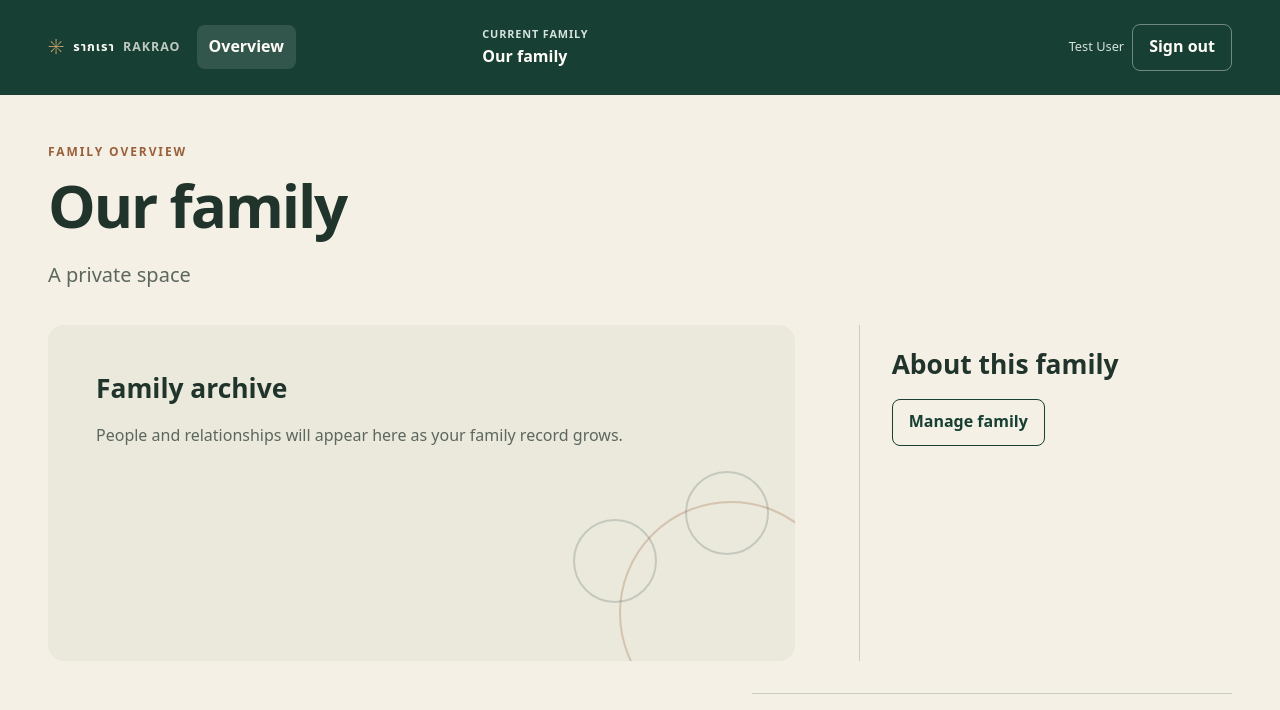
authentication shell › updates family details only through the selected family control
Click the button "Manage family". click: click(968, 422)
box: 892,399 -> 1045,446
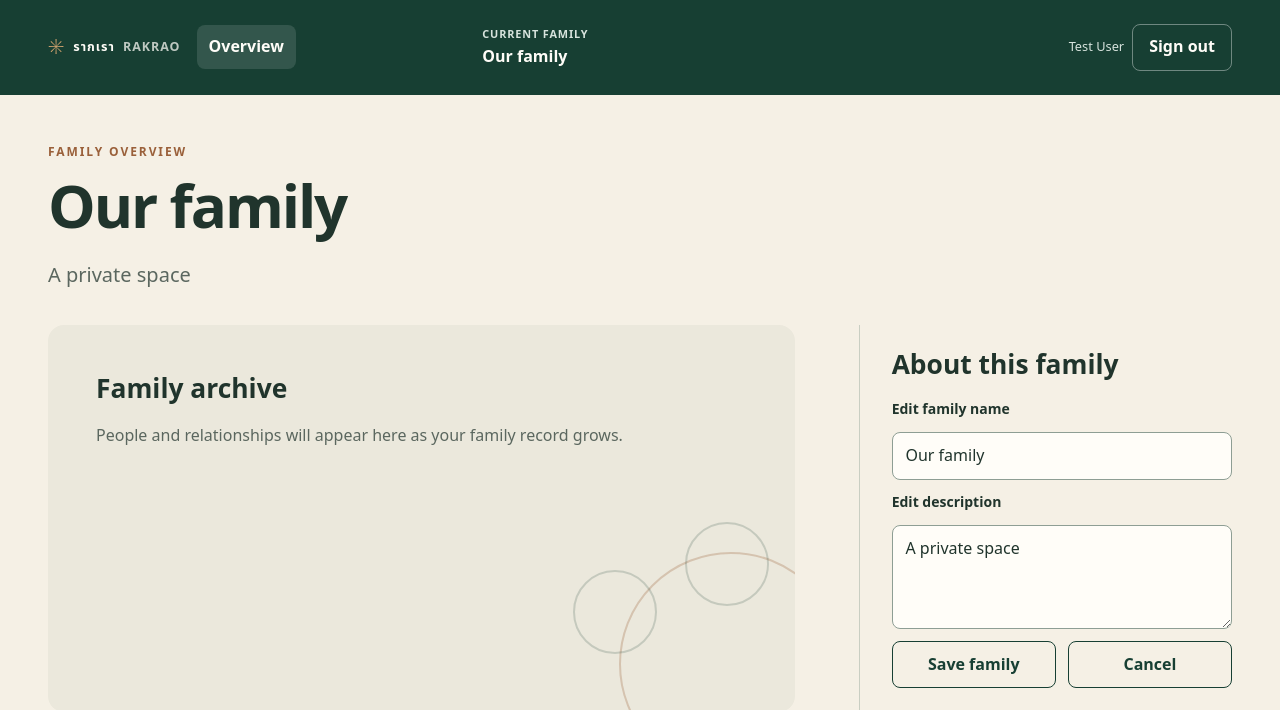
Replace the text in the field labelled "Edit family name" with "New family name". click: (1062, 456)
box: 892,432 -> 1232,480
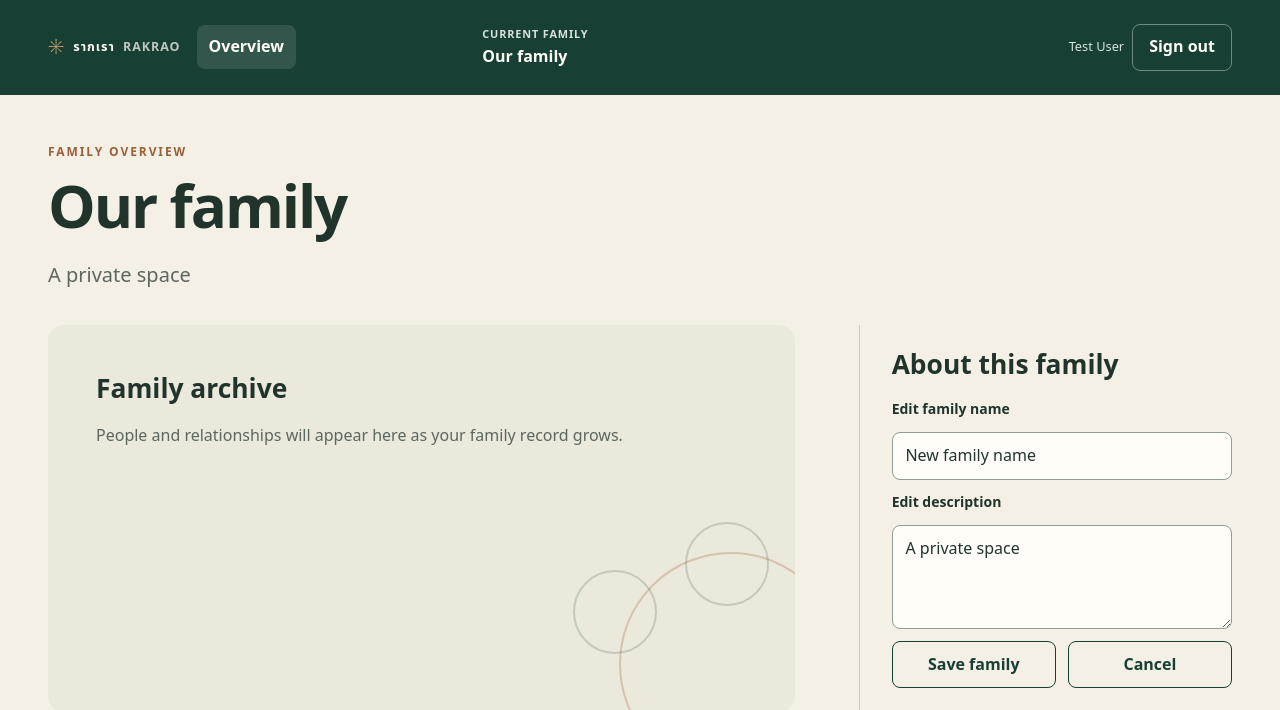
Click the button "Save family". click: click(974, 665)
box: 892,641 -> 1056,688
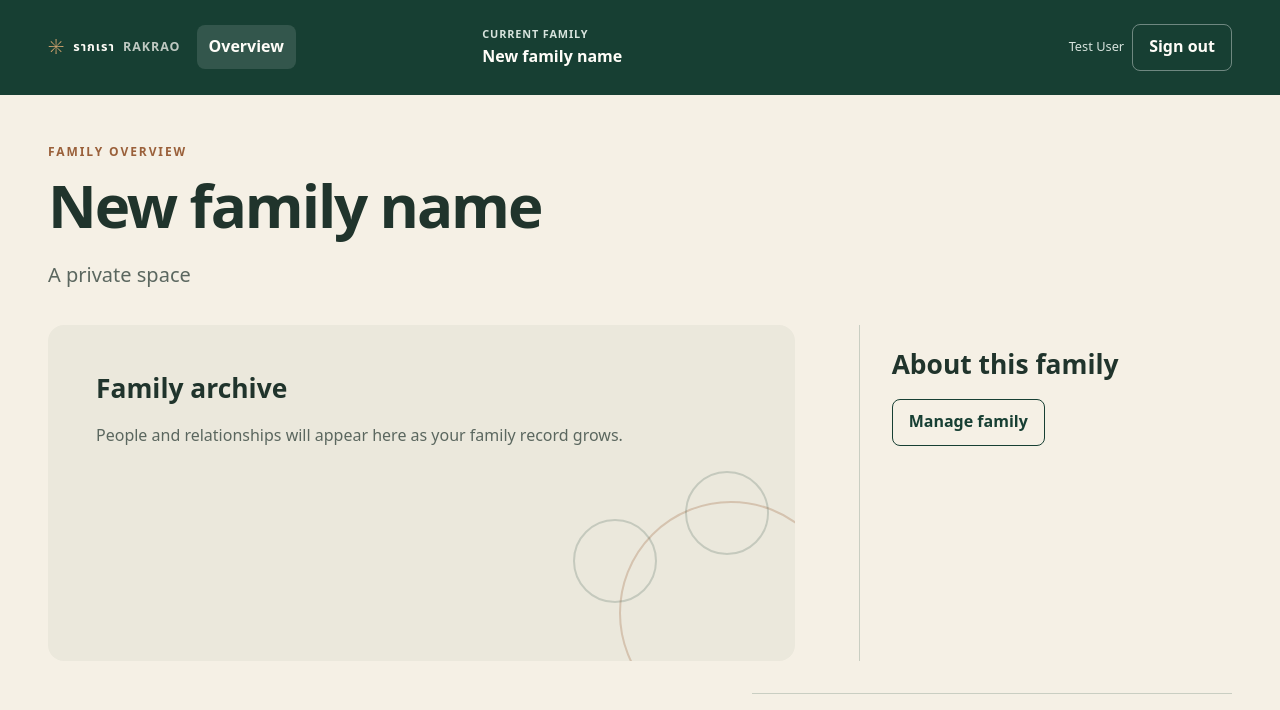
Now the heading "New family name" is shown, box 48,164 -> 541,255
